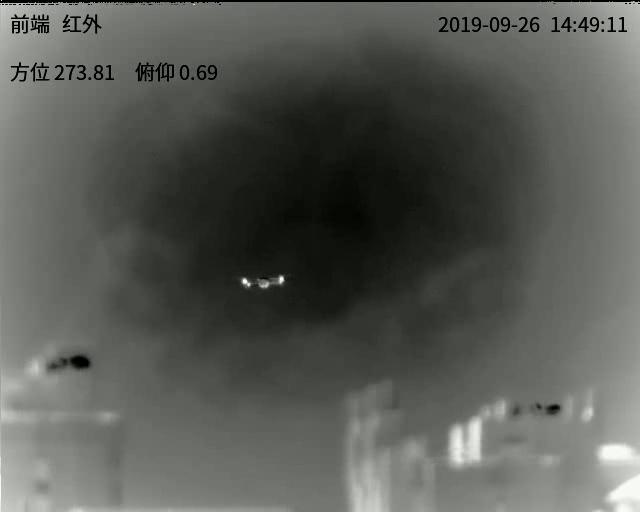DRONE: (241, 272, 286, 290)
